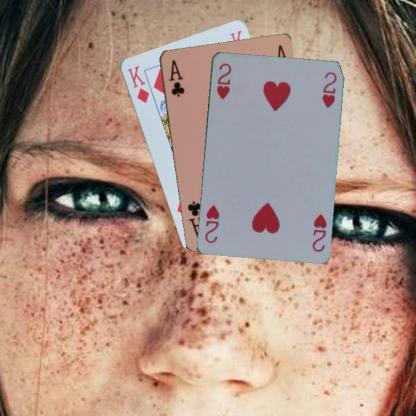2h: (310, 211, 328, 253), (214, 60, 232, 101)
Ac: (166, 57, 185, 98)
Kd: (124, 62, 150, 104)
